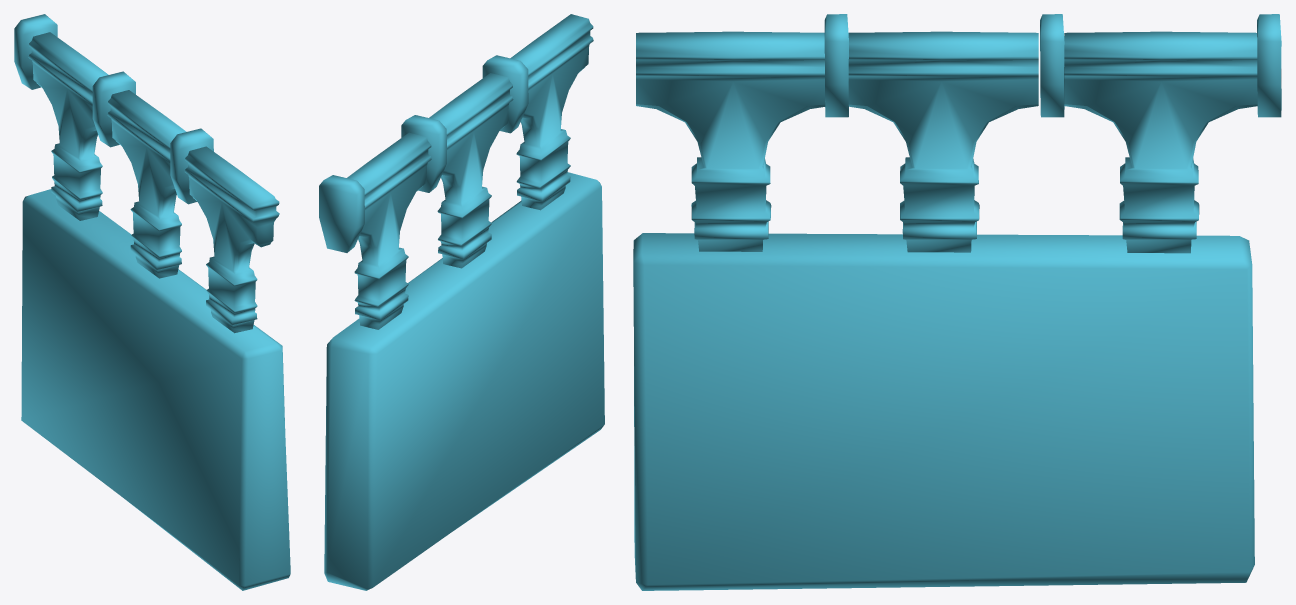
The model's file is big_wall.FBX.
3 views of the same model, side by side, from view 1: azimuth 30°, elevation 25°; view 2: azimuth 150°, elevation 25°; view 3: azimuth 270°, elevation 25° (orthographic). The views are drawn at different scales.
Parts seen in each view (by area): view 1: big_wall; view 2: big_wall; view 3: big_wall.
Part boxes in pixels (x1,y1,x2,y2): big_wall: [14, 14, 290, 590]; big_wall: [319, 14, 604, 590]; big_wall: [633, 14, 1281, 590].
Bounding box in the file's own units: 15.95 × 114 × 121.
